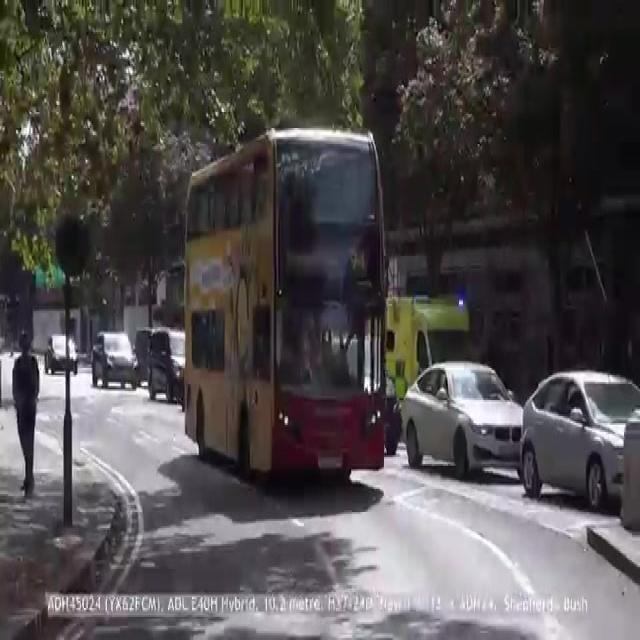Bus: (176, 139, 392, 473)
